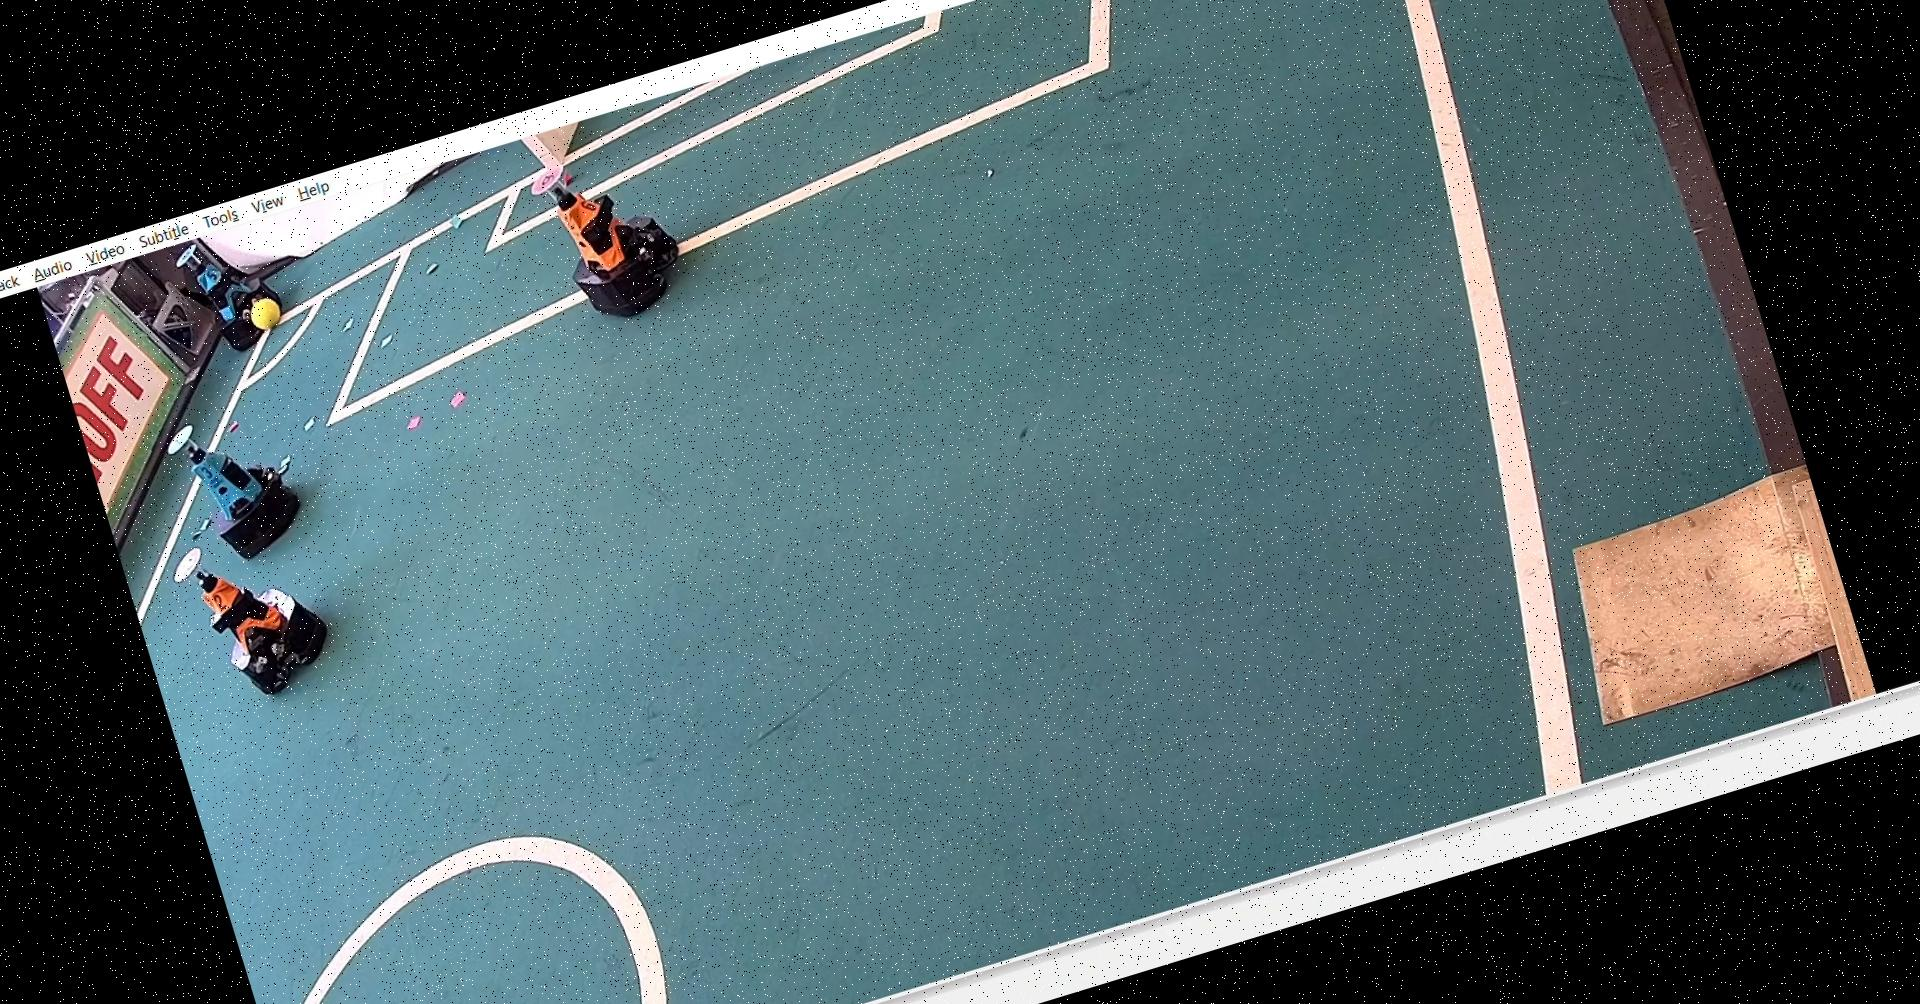Ball: (240, 287, 291, 336)
Team_Blue: (161, 393, 316, 562), (165, 223, 300, 363)
Team_Red: (531, 136, 696, 336), (165, 523, 337, 711)
